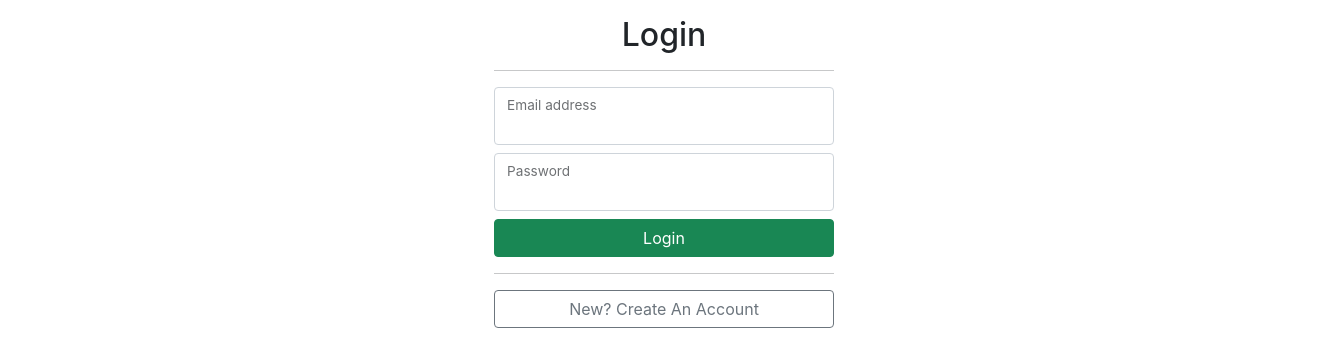
users can login
In the field labelled "Email address": [664, 116] box [494,87,834,145], type "some@email.com"
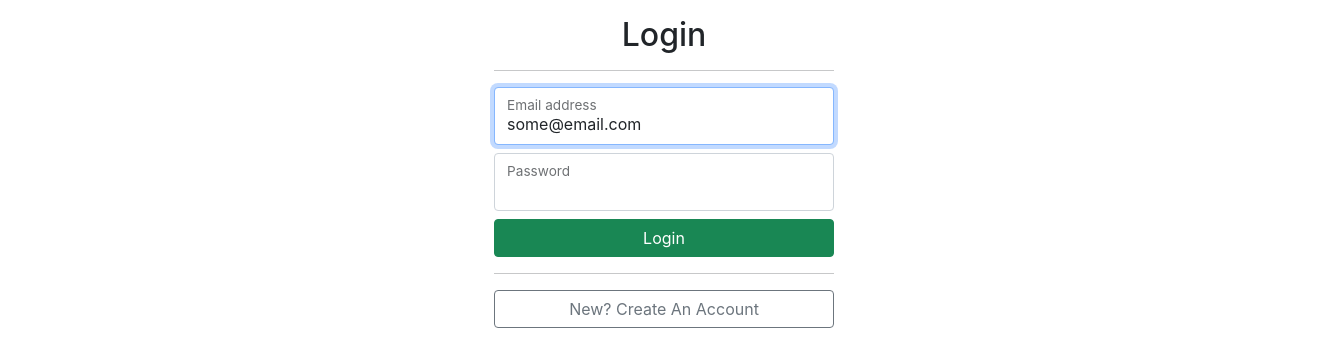
In the password field labelled "Password": [664, 182] box [494,153,834,211], type "some-password"
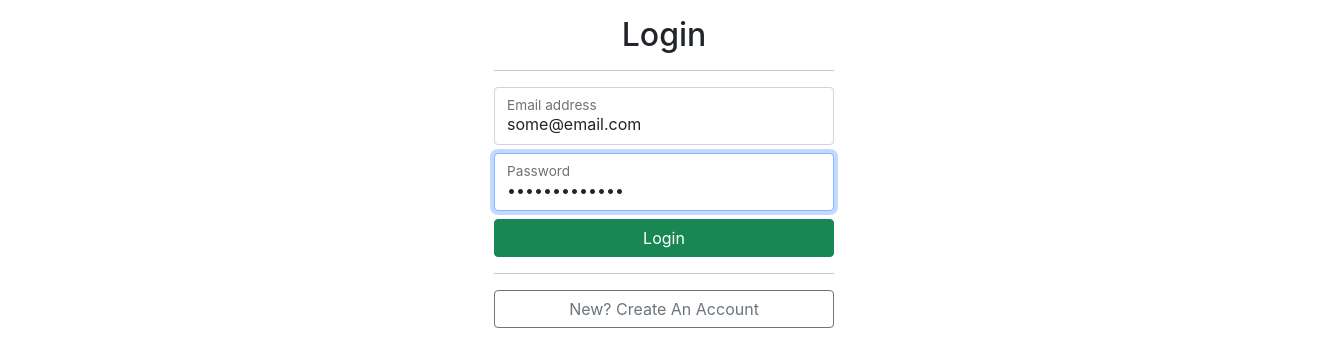
Click the submit button
Click the button "Login": [664, 238] box [494,219,834,257]
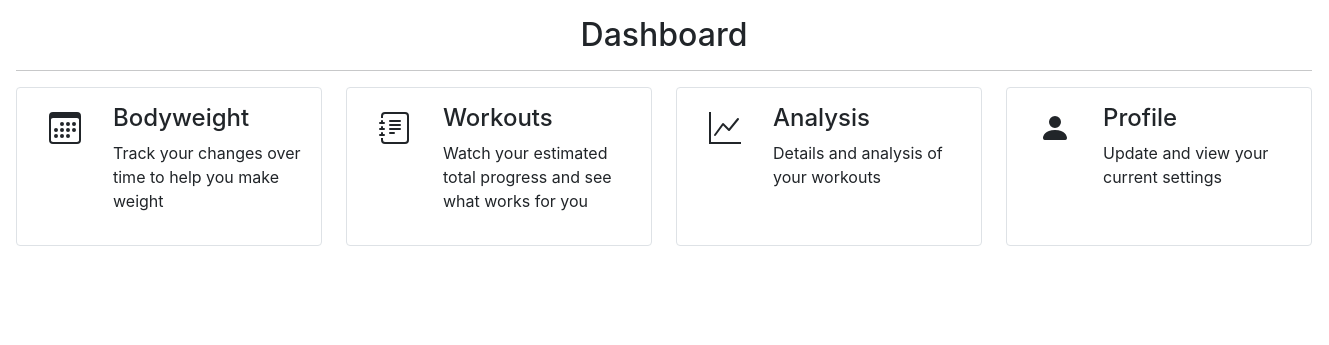
Result: the heading "Dashboard" is shown at [580,15,747,54]
